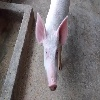heo: (35, 10, 72, 91)
